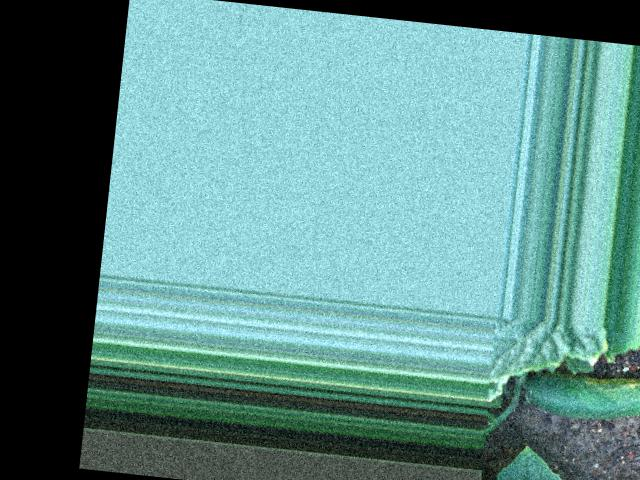cucumber: (523, 362, 640, 427)
